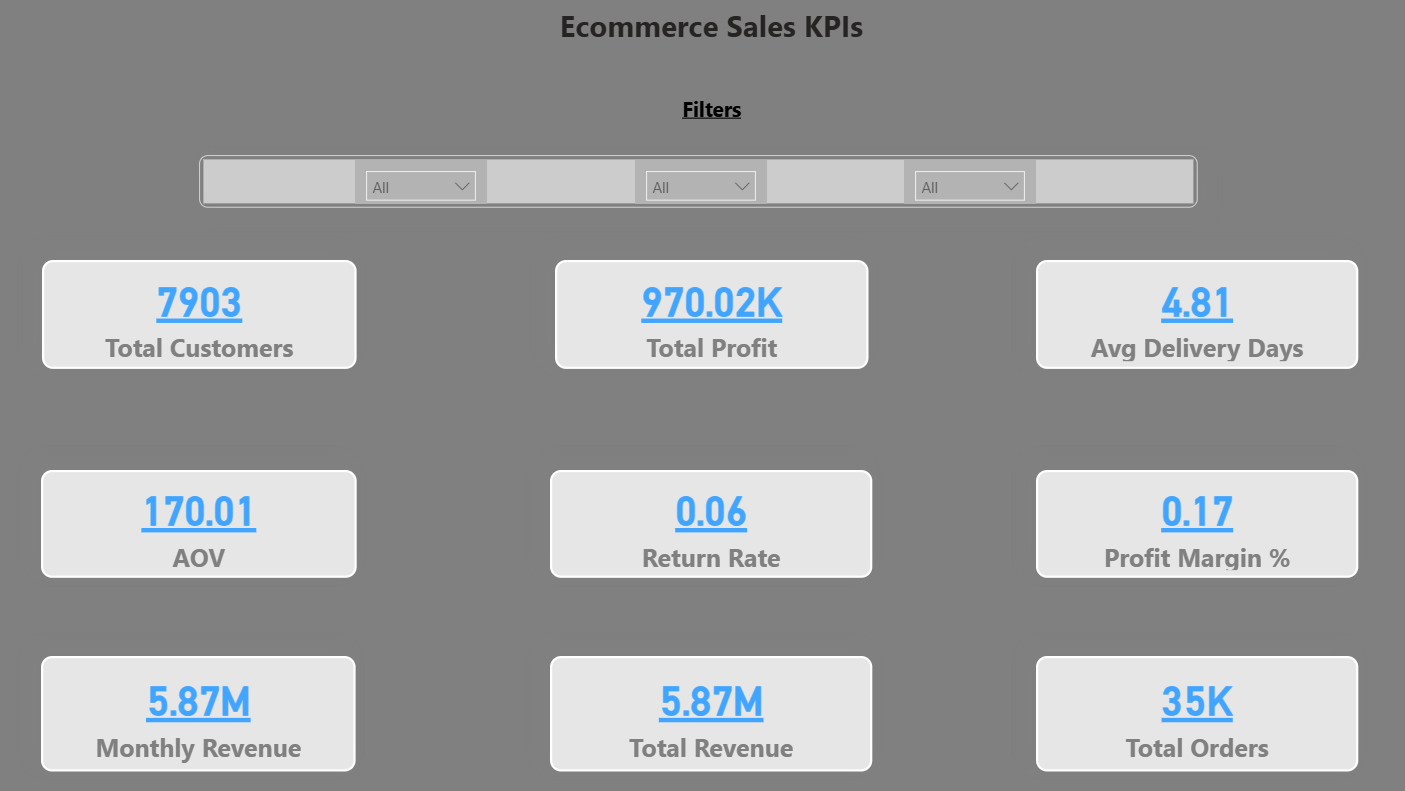

What the dashboard file says about the page in this screenshot:
{"tool":"powerbi","page":{"name":"KPIs","canvas":[1280,720],"ordinal":1},"visuals":[{"type":"shape","box":[182,141,908,48],"z":0},{"type":"card","fields":{"Values":["ecommerce sales.Total Customers"]},"box":[39,236,286,99],"z":1000},{"type":"card","fields":{"Values":["ecommerce sales.Total Revenue"]},"box":[501,596,293,105],"z":2000},{"type":"card","fields":{"Values":["ecommerce sales.AOV"]},"box":[38,427,287,98],"z":3000},{"type":"card","fields":{"Values":["ecommerce sales.Monthly Revenue"]},"box":[38,596,286,105],"z":4000},{"type":"card","fields":{"Values":["ecommerce sales.Return Rate"]},"box":[501,427,293,98],"z":5000},{"type":"card","fields":{"Values":["ecommerce sales.Total Profit"]},"box":[505,236,285,99],"z":6000},{"type":"card","fields":{"Values":["ecommerce sales.Total Orders"]},"box":[943,596,293,105],"z":7000},{"type":"card","fields":{"Values":["ecommerce sales.Profit Margin %"]},"box":[943,427,293,98],"z":8000},{"type":"card","fields":{"Values":["ecommerce sales.Avg Delivery Days"]},"box":[943,236,293,99],"z":9000},{"type":"slicer","fields":{"Values":["ecommerce sales.order_month"]},"box":[324,145,120,40],"z":10000},{"type":"slicer","fields":{"Values":["ecommerce sales.category"]},"box":[578,145,120,40],"z":11000},{"type":"slicer","fields":{"Values":["ecommerce sales.region"]},"box":[823,145,120,40],"z":12000},{"type":"textbox","box":[596,81,103,44],"z":13000},{"type":"textbox","box":[457,0,381,52],"z":14000}]}

Visuals, with their boxes in screenshot pixels (x1, y1, x2, y2), scaled from the page's 1280x720 canvas onto the 1405x791 screenshot:
shape: 200/155/1196/208
card - ecommerce sales.Total Customers: 43/259/357/368
card - ecommerce sales.Total Revenue: 550/655/872/770
card - ecommerce sales.AOV: 42/469/357/577
card - ecommerce sales.Monthly Revenue: 42/655/356/770
card - ecommerce sales.Return Rate: 550/469/872/577
card - ecommerce sales.Total Profit: 554/259/867/368
card - ecommerce sales.Total Orders: 1035/655/1357/770
card - ecommerce sales.Profit Margin %: 1035/469/1357/577
card - ecommerce sales.Avg Delivery Days: 1035/259/1357/368
slicer - ecommerce sales.order_month: 356/159/487/203
slicer - ecommerce sales.category: 634/159/766/203
slicer - ecommerce sales.region: 903/159/1035/203
textbox: 654/89/767/137
textbox: 502/0/920/57
